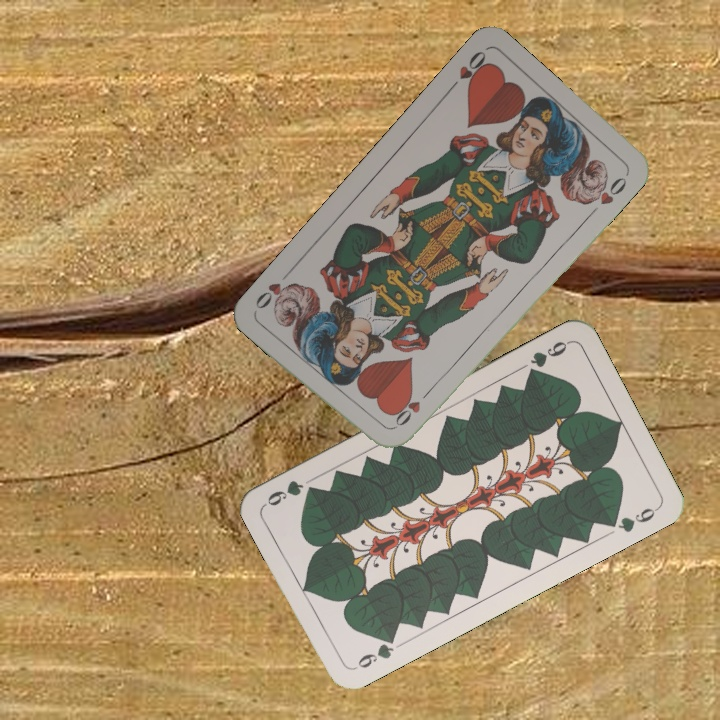G9: (349, 630, 404, 673), (523, 336, 572, 380)
HO: (444, 46, 492, 94), (389, 385, 434, 432)
